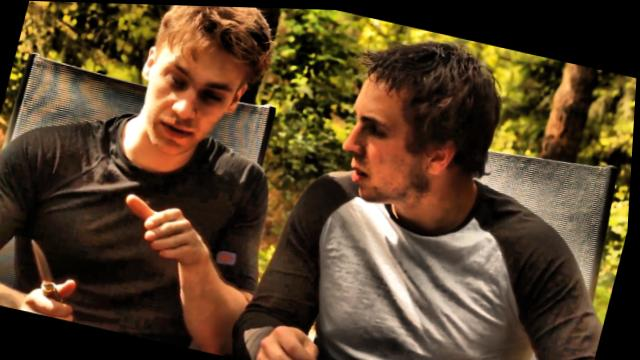knife: (11, 229, 99, 322)
